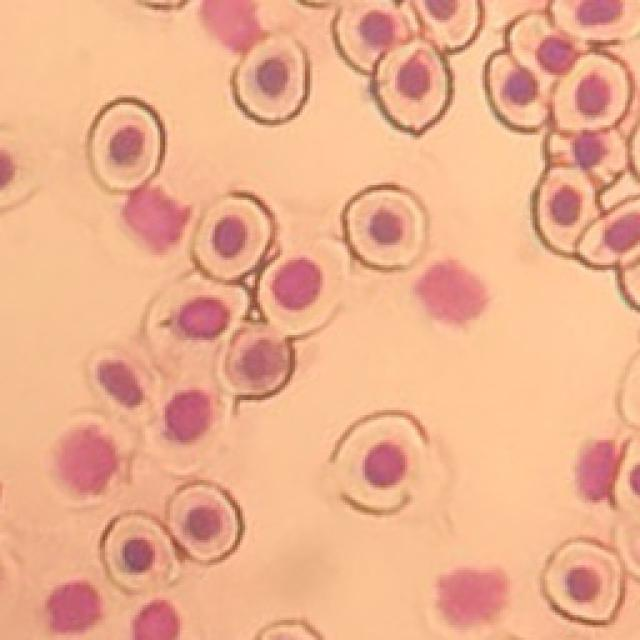RBC: (142, 271, 249, 379), (330, 410, 429, 514), (259, 240, 348, 337), (372, 39, 451, 134), (342, 184, 428, 269), (88, 98, 165, 191), (192, 195, 272, 281), (232, 34, 309, 123), (508, 12, 579, 106), (332, 0, 419, 74), (551, 52, 631, 132), (100, 512, 180, 591), (545, 541, 621, 622), (168, 481, 242, 562), (534, 168, 599, 255), (218, 325, 294, 398), (485, 51, 548, 131), (546, 129, 628, 189), (578, 198, 640, 267), (550, 0, 640, 41), (412, 0, 482, 51), (612, 436, 640, 512)
WBC: (415, 260, 488, 323), (56, 424, 118, 494), (124, 186, 190, 251), (439, 568, 508, 626), (201, 0, 264, 51), (576, 440, 619, 501), (48, 582, 100, 632), (165, 389, 212, 442), (98, 360, 142, 408), (132, 600, 180, 640)
